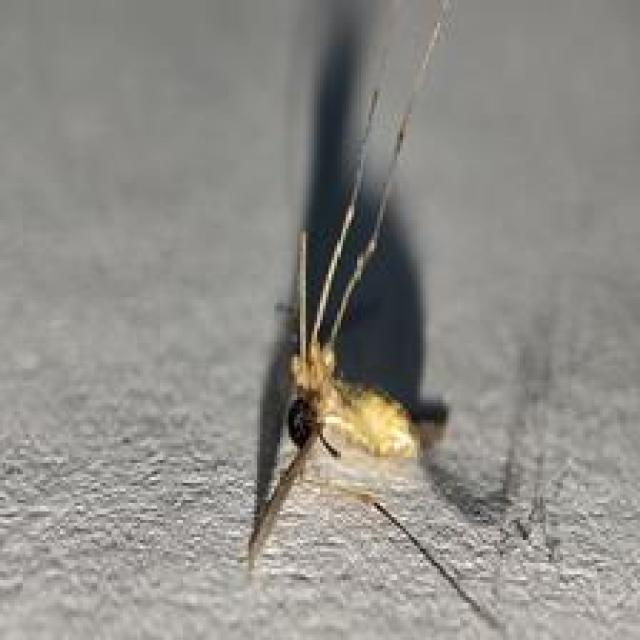Culex: (241, 0, 512, 631)
